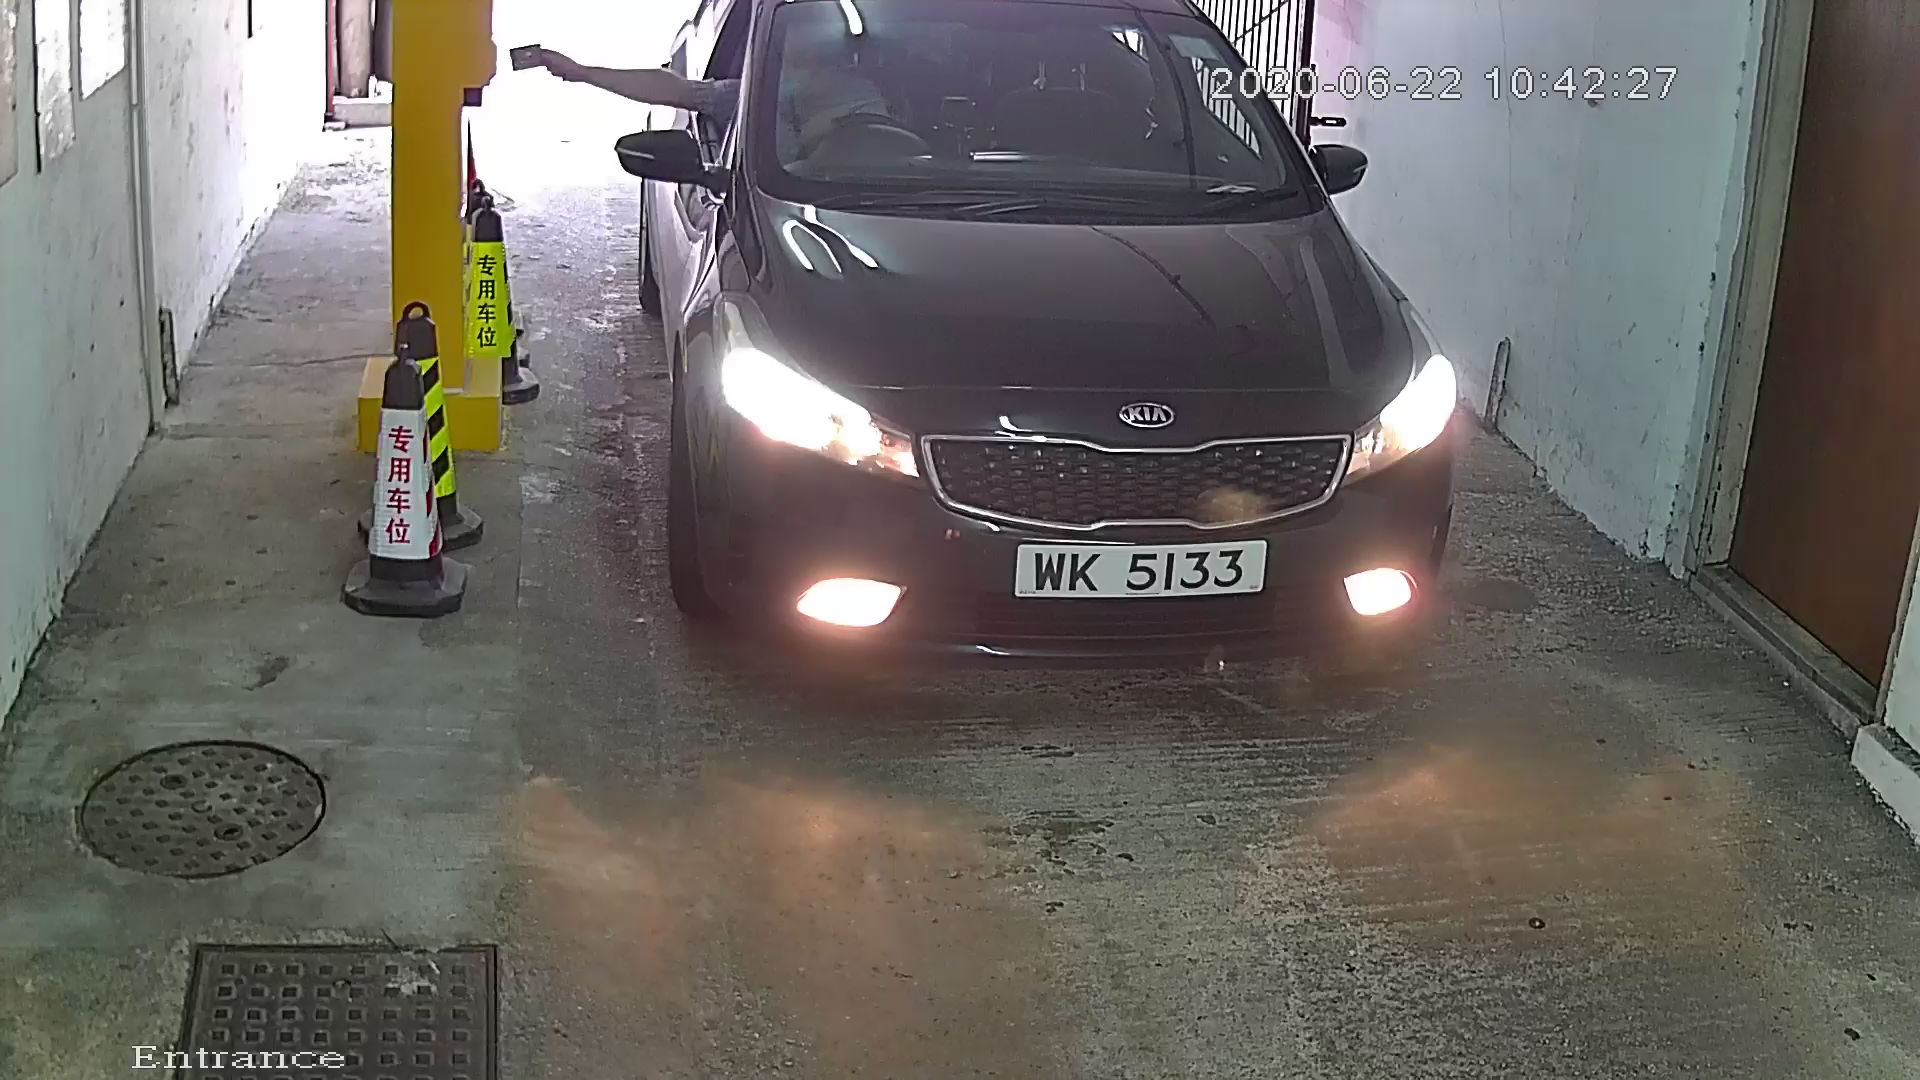privatecar: (578, 1, 1520, 746)
